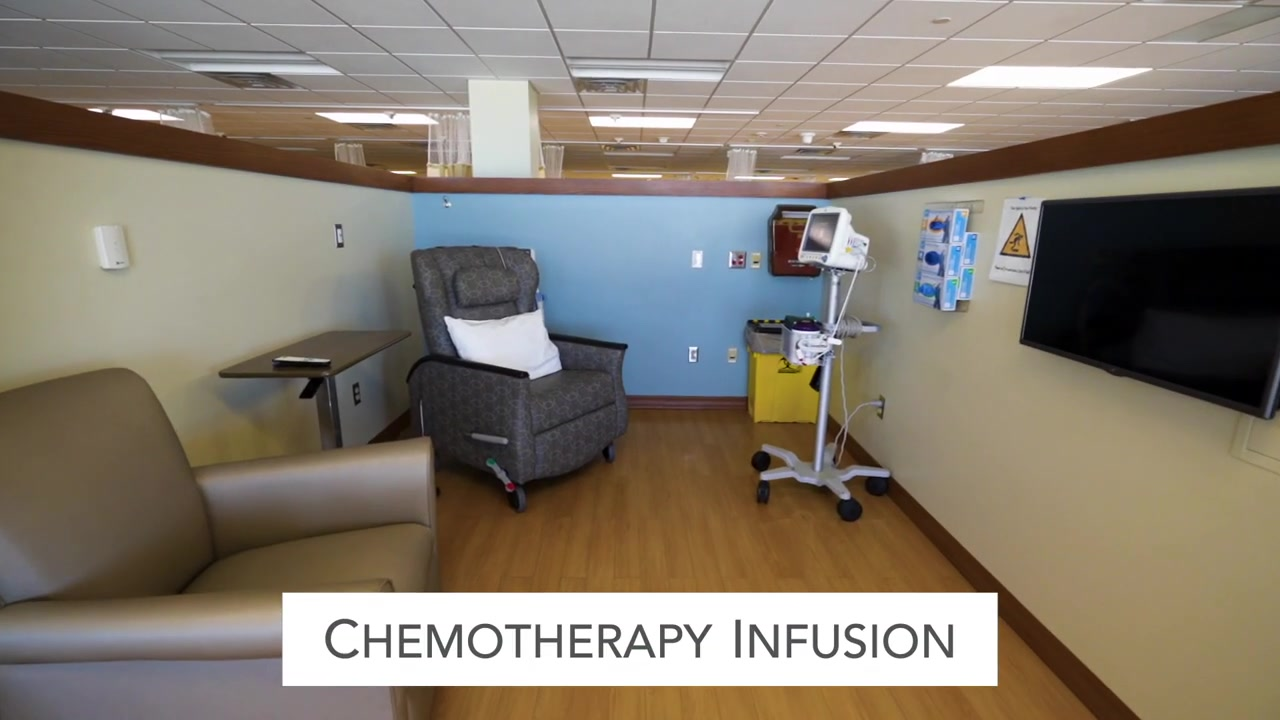TV: (1018, 186, 1280, 422)
bedside_monitor: (795, 207, 850, 266)
curtain: (426, 112, 473, 181)
dispenser: (911, 214, 979, 312)
sofa: (2, 367, 442, 720), (405, 245, 630, 513)
table: (217, 329, 413, 451)
waste_bin: (744, 318, 823, 424)
